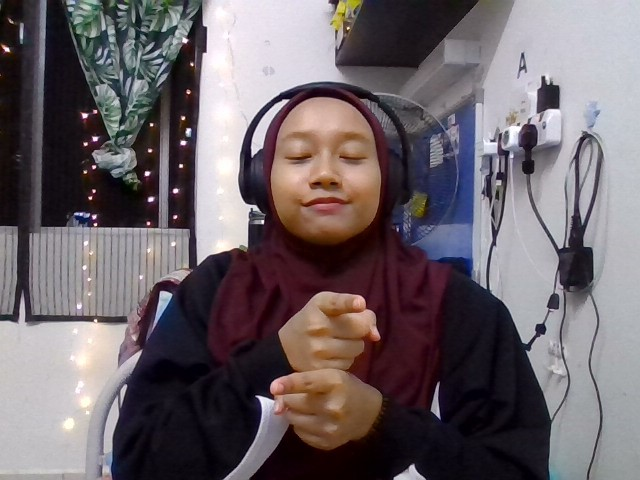Betul: (269, 291, 380, 450)
